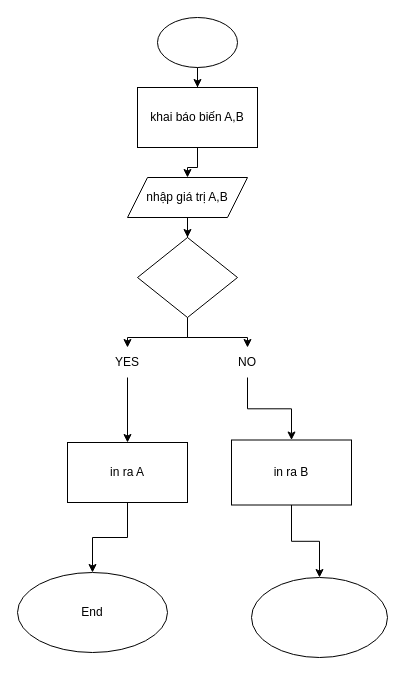
Image size: 405x675. Some labels were removed from this diagram. Each missing label, with the centre of its shape:
A<B?: point (187, 277)
start: point (197, 42)
